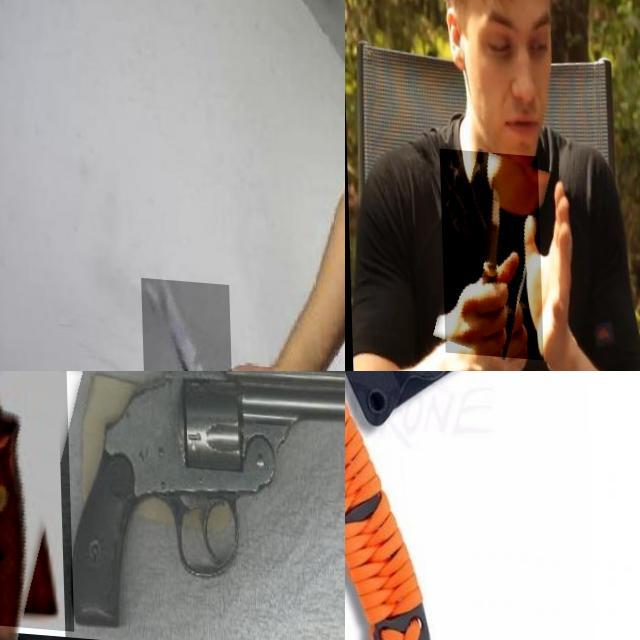-: (438, 147, 540, 357), (345, 371, 427, 511), (138, 275, 230, 371)
gun-knife-thesis - v11 Yolov5 augmented: (61, 371, 345, 637), (0, 371, 168, 626)
